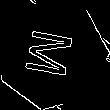M_E: (23, 27, 82, 82)
